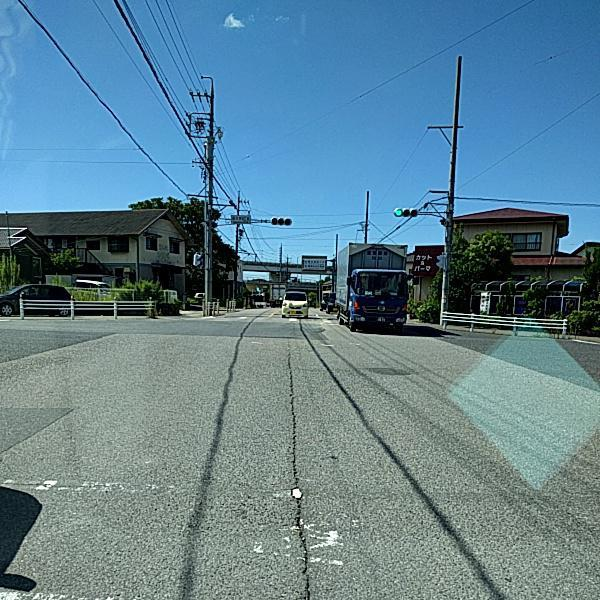D00: (280, 349, 317, 599)
